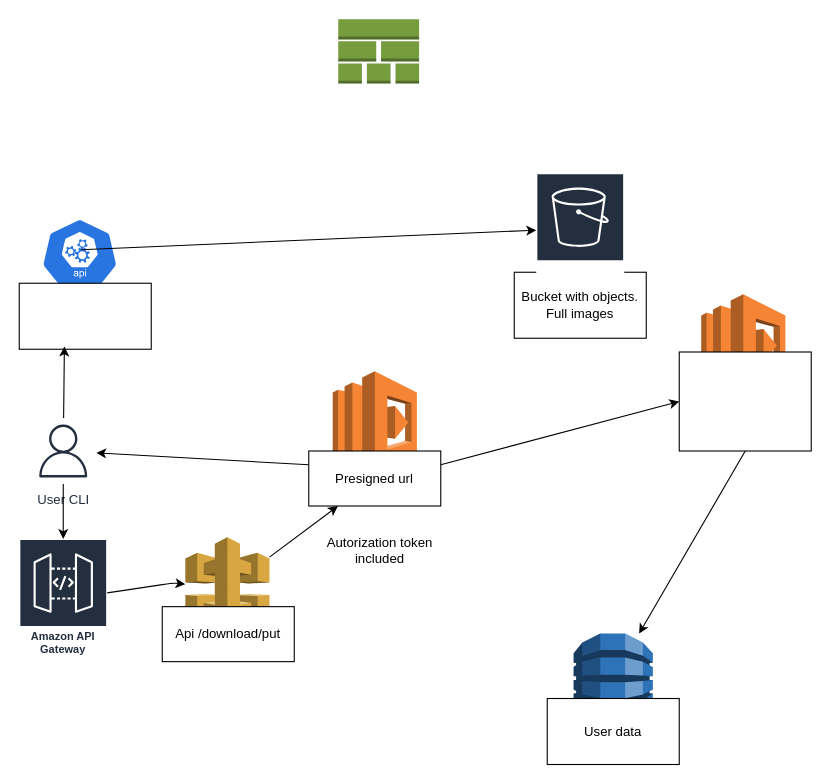
Image size: 831x784. Some labels were removed from this diagram. The shapes that lost their labels are listed below. From the top down, each one's centre as x and y in pixels, then its label:
the point at 579,227: Amazon S3
the point at 84,315: Get + presigned URL
the point at 744,401: Lamda register user download + date + user
